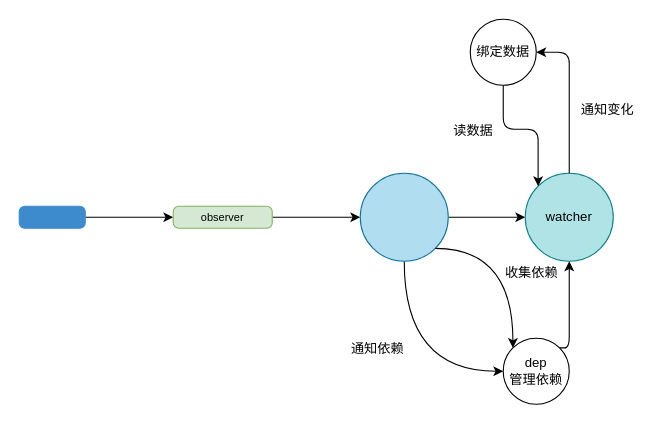
Image size: 664x424. Some labels were removed from this diagram. Here are the shapes that lost their labels. From the top down, the centre of each, then its label:
At point (51, 216): "data".
At point (403, 216): "data getter setter".
